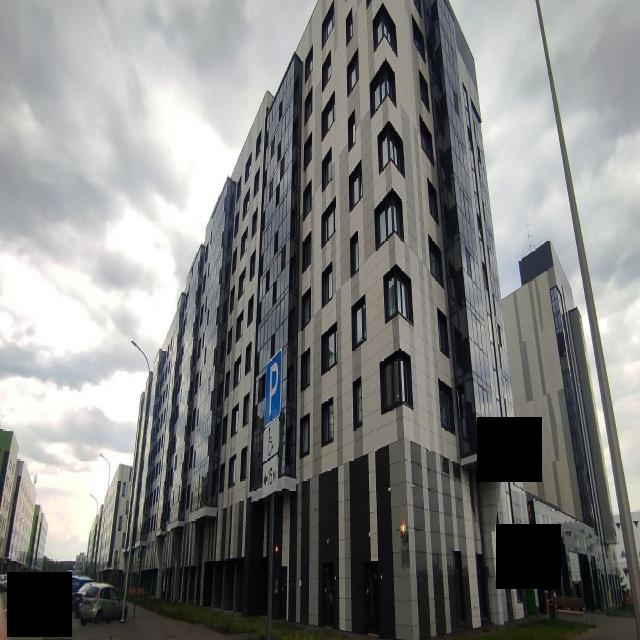Building: (124, 0, 540, 640)
